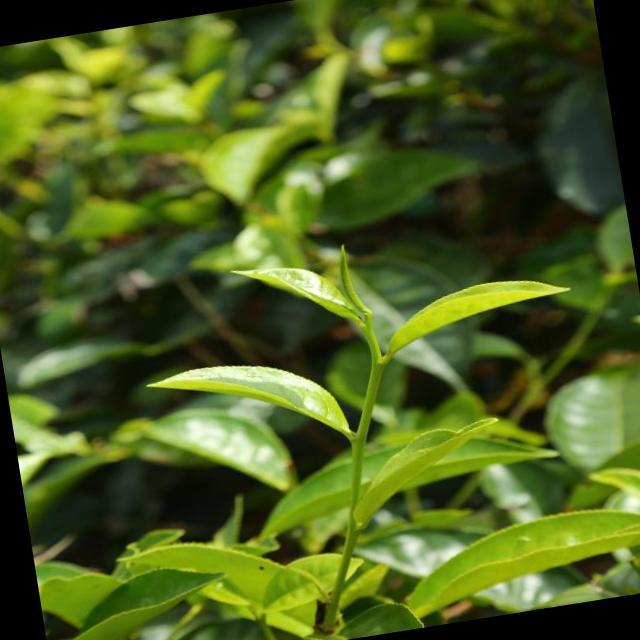Stem: (373, 359, 385, 369)
